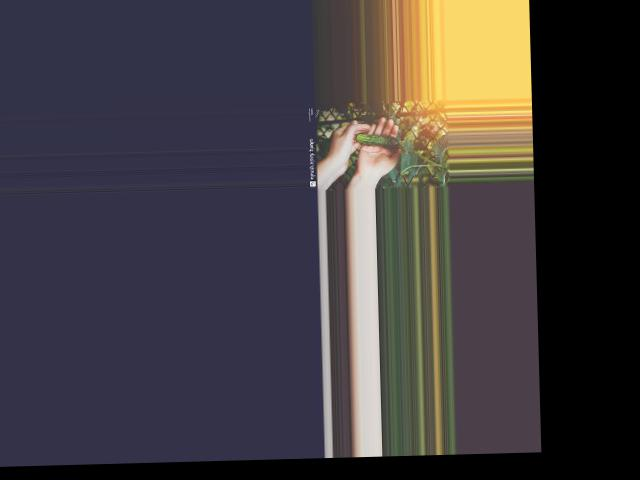cucumber: (355, 132, 399, 149)
